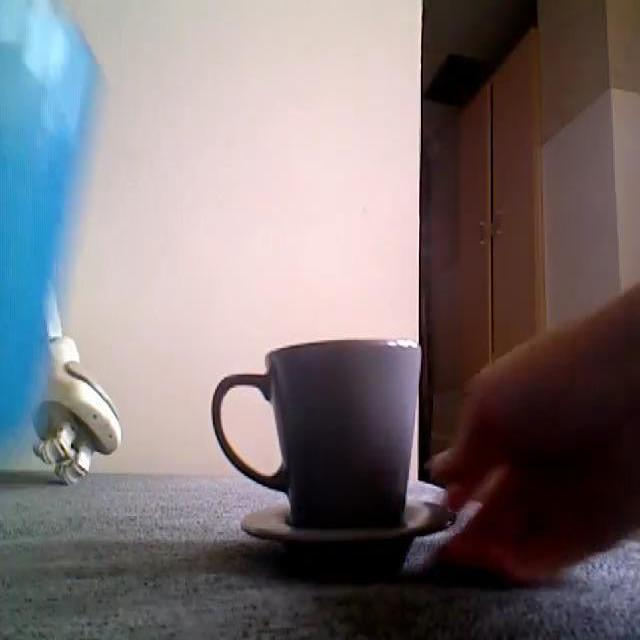cup: (205, 333, 467, 576)
